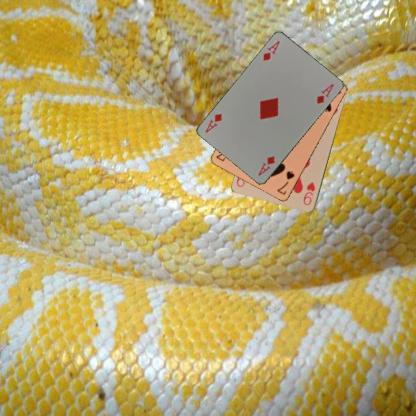7s: (274, 169, 296, 196)
9h: (301, 180, 317, 207)
Ad: (260, 39, 282, 62), (256, 154, 276, 177)
